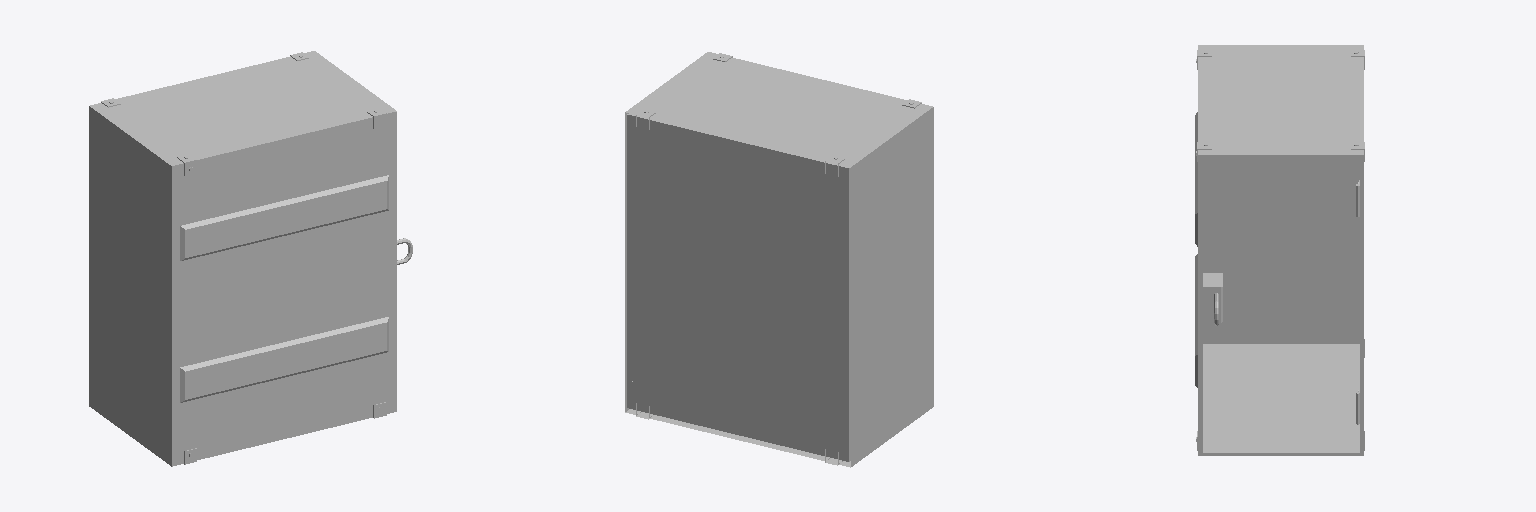
File: am_metalbox.obj
3 renders of one model, left to right at view 1: azimuth 30°, elevation 25°; view 2: azimuth 150°, elevation 25°; view 3: azimuth 270°, elevation 25°, orthographic.
Parts seen in each view (by area): view 1: am_metalbox; view 2: am_metalbox; view 3: am_metalbox.
Part boxes in pixels (x1,y1,x2,y2): am_metalbox: (89,51,412,466); am_metalbox: (625,52,933,467); am_metalbox: (1195,45,1364,455).
Size of the model in its own units: 29.64 by 34.43 by 17.5.